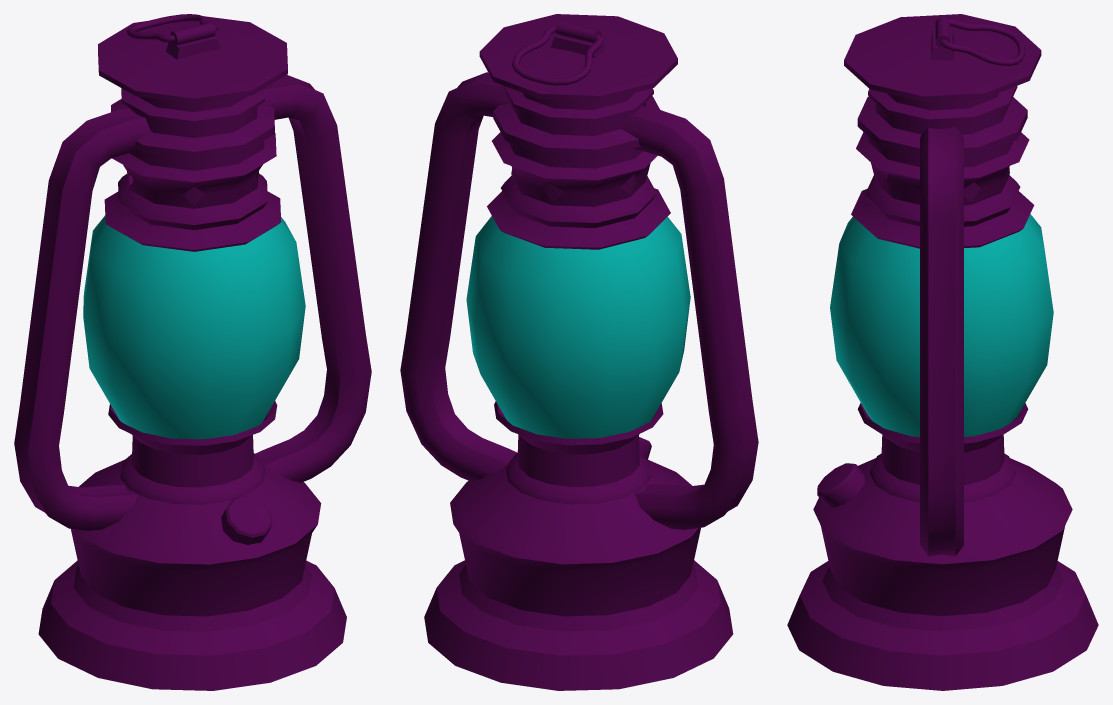
Rendered from Lantern.FBX.
The picture shows the model from 3 angles, left to right: view 1: azimuth 30°, elevation 25°; view 2: azimuth 150°, elevation 25°; view 3: azimuth 270°, elevation 25°; orthographic projection.
Visible parts, largest first — view 1: Cylinder005, Sphere001; view 2: Cylinder005, Sphere001; view 3: Cylinder005, Sphere001.
Boxes of the visible parts, <box> form: Cylinder005: <box>14,14,371,690</box>; Sphere001: <box>83,215,305,439</box>; Cylinder005: <box>400,14,758,690</box>; Sphere001: <box>466,216,690,438</box>; Cylinder005: <box>787,14,1098,690</box>; Sphere001: <box>830,214,1053,436</box>.
Bounding box in the file's own units: 54.57 × 90.72 × 42.74.
